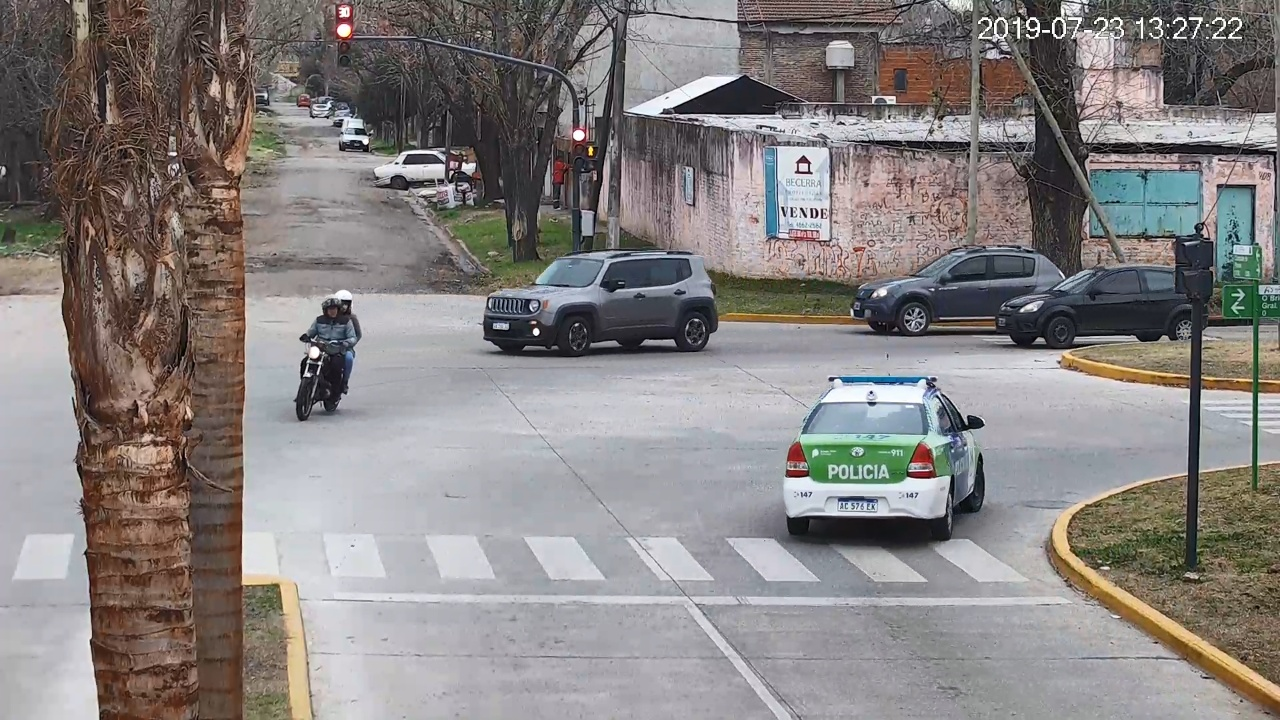front car: (483, 249, 718, 358)
front motorcycle: (294, 317, 362, 421)
police car: (783, 375, 984, 541)
traffic light: (336, 22, 352, 66), (572, 129, 584, 170)
